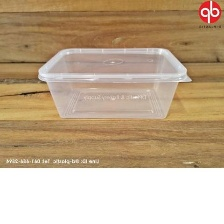plastic_box: (32, 39, 197, 124)
